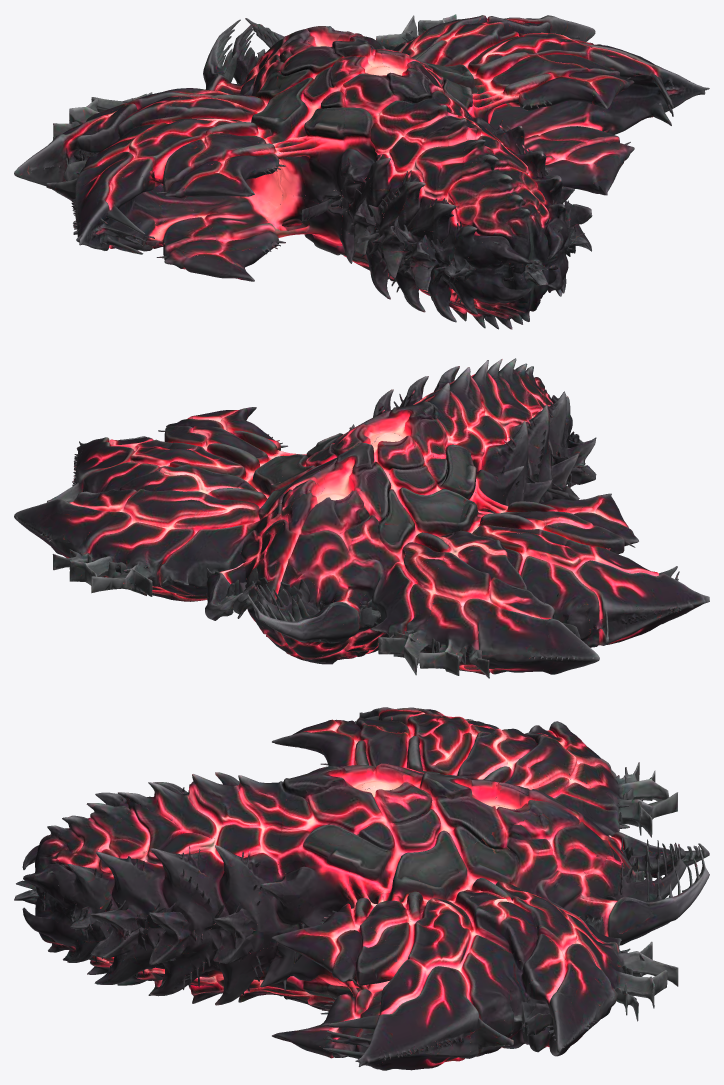
Rendered from vexor-v2.glb.
3 renders of one model, top to bottom at view 1: azimuth 30°, elevation 25°; view 2: azimuth 150°, elevation 25°; view 3: azimuth 270°, elevation 25°, orthographic. The views are drawn at different scales.
Visible parts, largest first — view 1: vexor-v2; view 2: vexor-v2; view 3: vexor-v2.
Part boxes in pixels (box(x1,y1,x2,y2)): vexor-v2: box(14, 14, 709, 329); vexor-v2: box(14, 358, 709, 678); vexor-v2: box(14, 707, 709, 1070).
Size of the model in its own units: 1.91 by 0.5923 by 1.61.
1 material, 1 textured.
